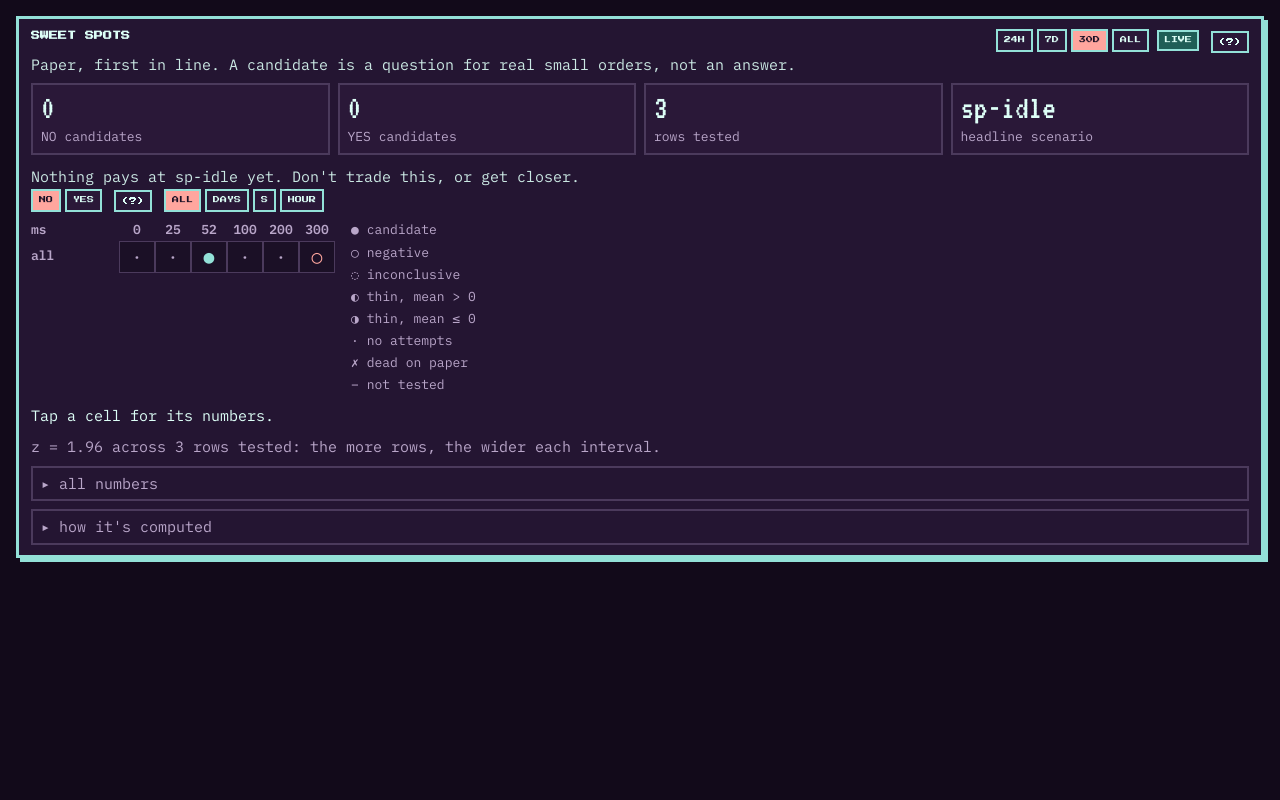
Scenario: Sweet page › has no scenario chips: six NO columns, two YES columns, CATEGORY hidden without tags
Click the button "YES". click: (84, 200)
box: [65,189,102,212]
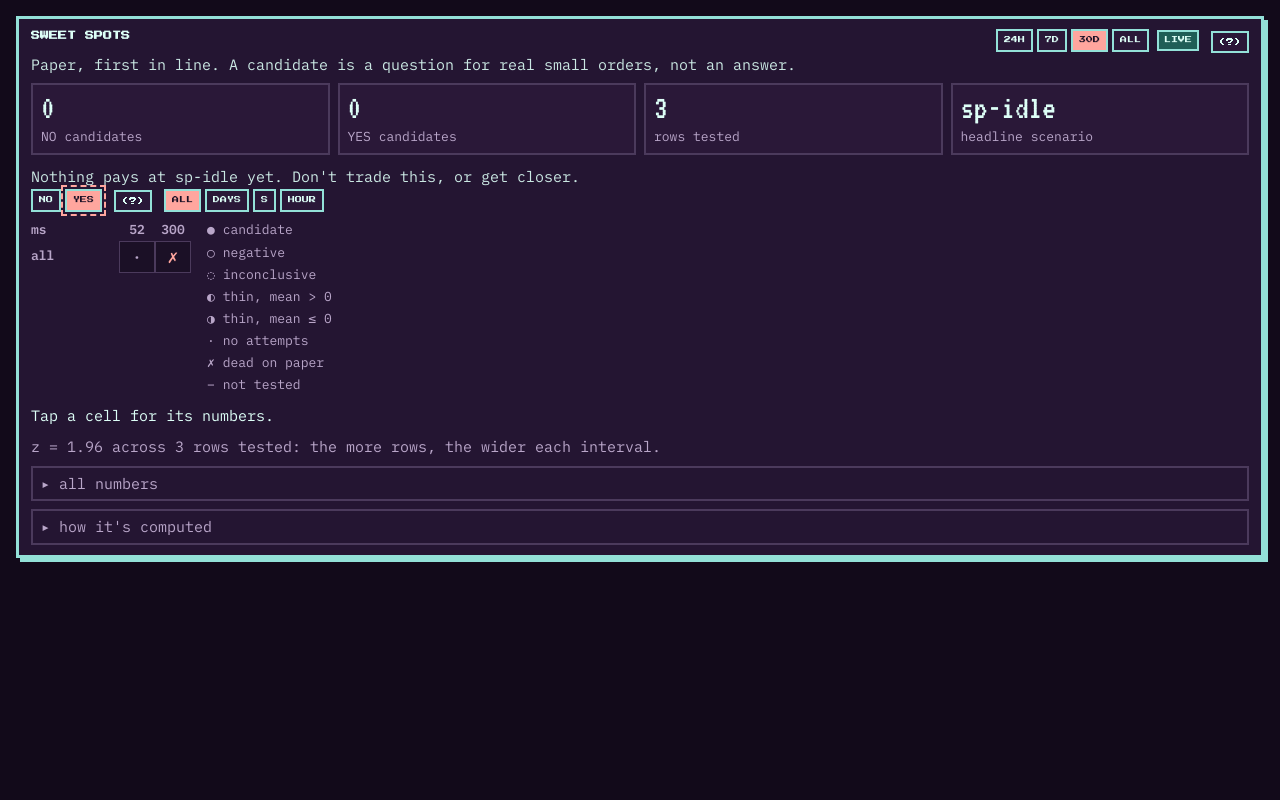
expect the column headings read "ms", "52", "300", in this order: met, box [31,220,119,240]; [119,220,155,240]; [155,220,191,240]
expect the button named "all at sp-idle (300 ms): dead on paper" reads "✗": met, box [155,241,191,273]
